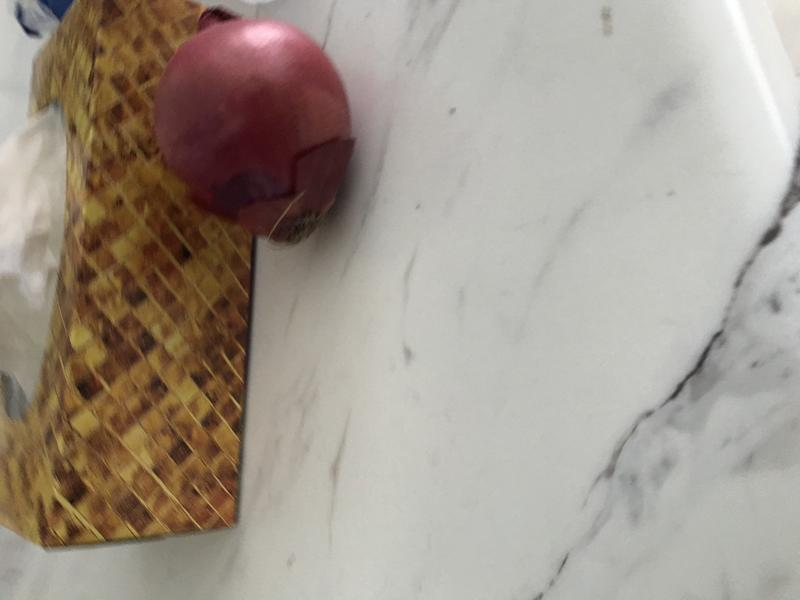purple_onion: (154, 3, 362, 262)
